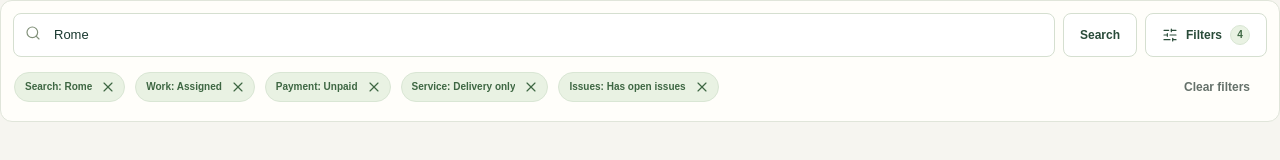
Test: Compact order filters › removes one applied criterion without disturbing others and clears criteria without resetting page size
What coordinates should you click on to do the following:
click the button with aria-label "Remove payment status filter"
I would click on:
 (328, 87)
Its box is [264,65,392,109].
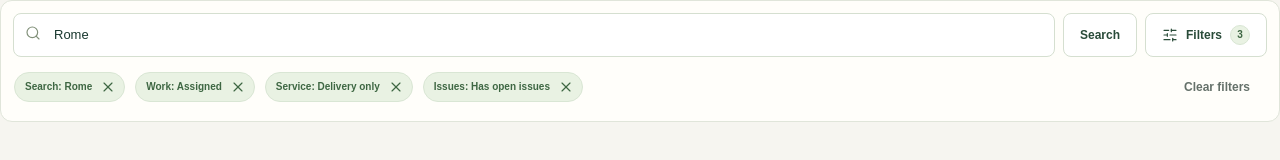
Expected: the text "3" is shown, [1230,25,1250,45]
Expected: the button with aria-label "Remove work progress filter" is shown, [134,65,256,109]
What coordinates should you click on to do the following:
click the button with aria-label "Remove search filter"
I would click on:
 (70, 87)
Its box is [13,65,126,109].
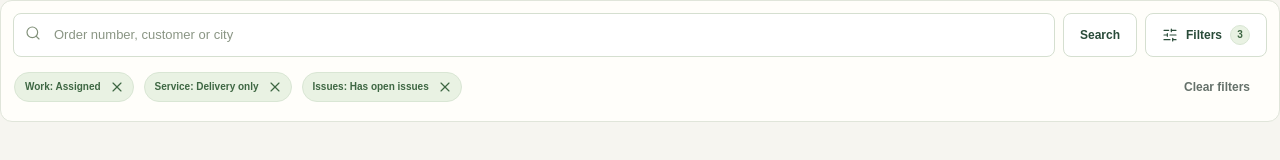
Expected: the search field named "Search" is empty, [13,13,1055,57]
What coordinates should you click on to do the following:
click the button "Clear filters"
I would click on:
 (1217, 87)
Its box is [1167,65,1267,109].
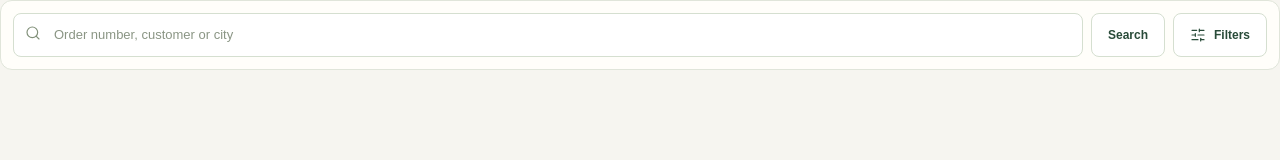
Expected: the button "Clear filters" is gone
